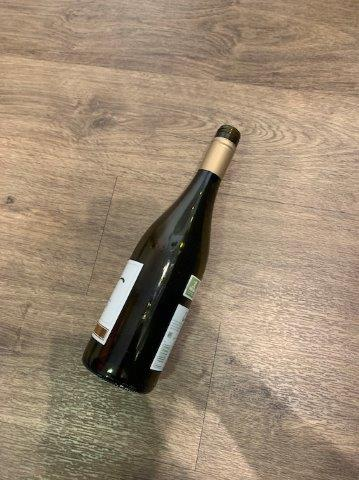botolkaca: (81, 125, 241, 393)
